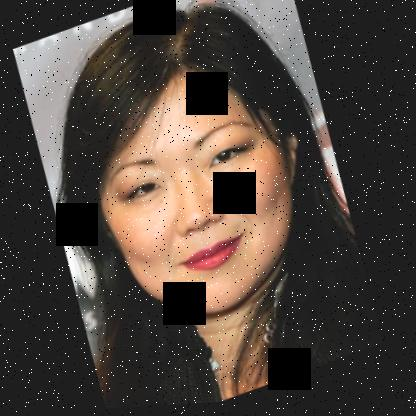Female: (68, 40, 343, 348)
